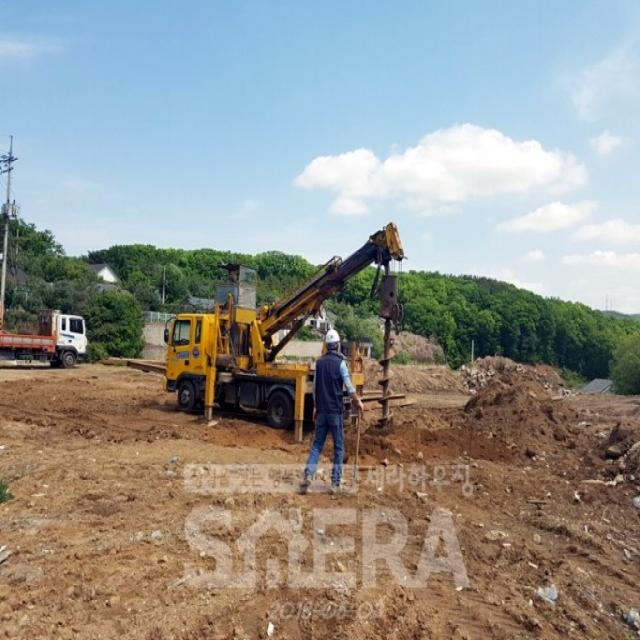pile: (377, 347, 395, 424)
